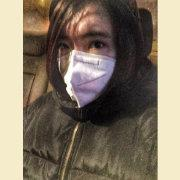OK: (50, 30, 124, 104)
